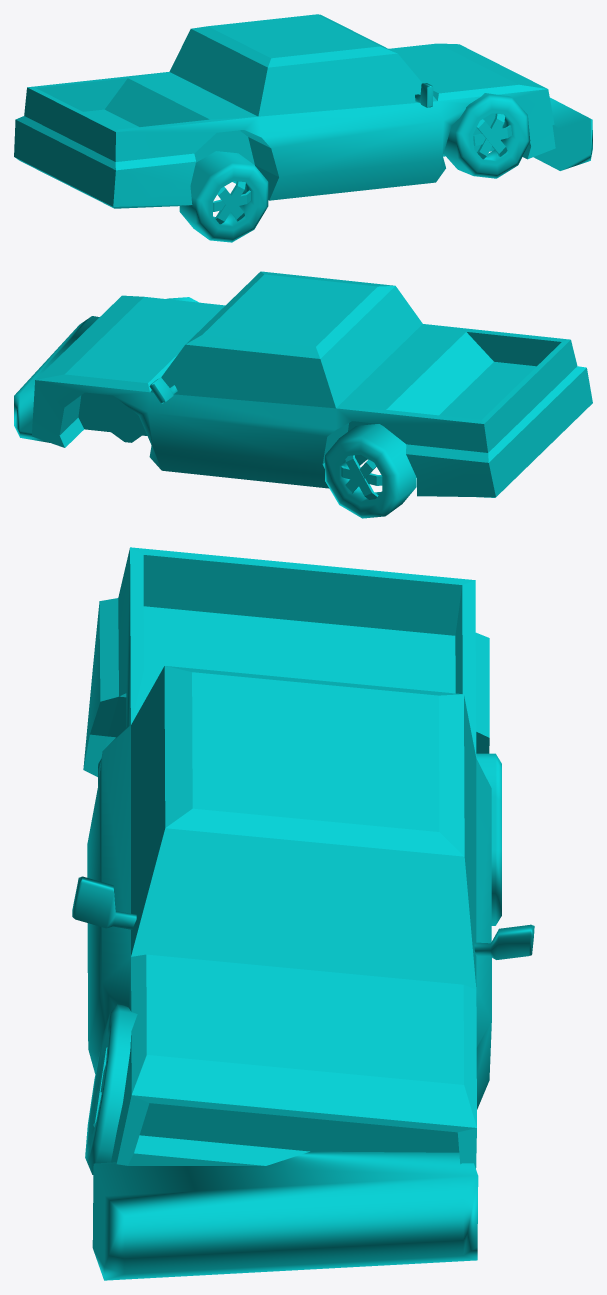
The model's file is broken_pickup_truck_3wheel.fbx.
The picture shows the model from 3 angles, top to bottom: view 1: azimuth 30°, elevation 25°; view 2: azimuth 150°, elevation 25°; view 3: azimuth 270°, elevation 25°; orthographic projection. The views are drawn at different scales.
Parts seen in each view (by area): view 1: polySurface85; view 2: polySurface85; view 3: polySurface85.
Part boxes in pixels (x1=…): polySurface85: x1=14, y1=14, x2=592, y2=242; polySurface85: x1=14, y1=271, x2=592, y2=518; polySurface85: x1=72, y1=547, x2=534, y2=1280.
Bounding box in the file's own units: 5.92 × 1.86 × 2.42.
